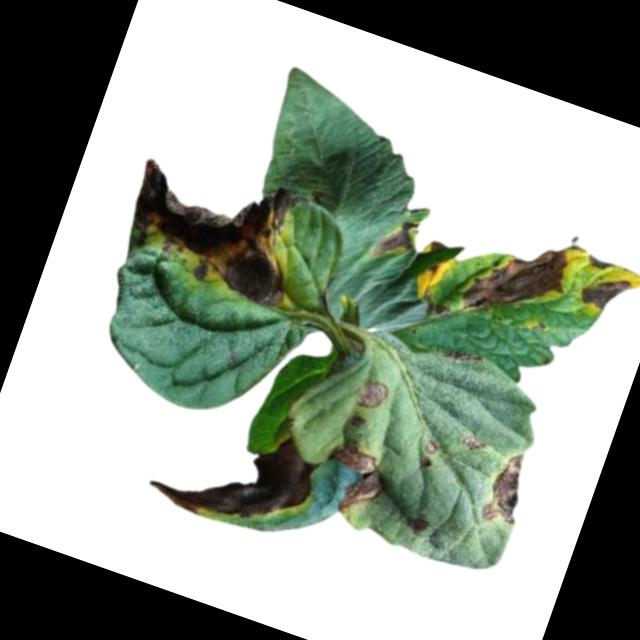Early_blight: (113, 141, 320, 312), (143, 395, 321, 545), (460, 220, 580, 337), (310, 432, 396, 520), (480, 445, 539, 528), (575, 266, 633, 319), (370, 212, 419, 264), (355, 375, 391, 414), (421, 237, 454, 276), (445, 342, 481, 368), (585, 253, 614, 274), (463, 433, 489, 453), (422, 438, 444, 457), (410, 516, 432, 534)
